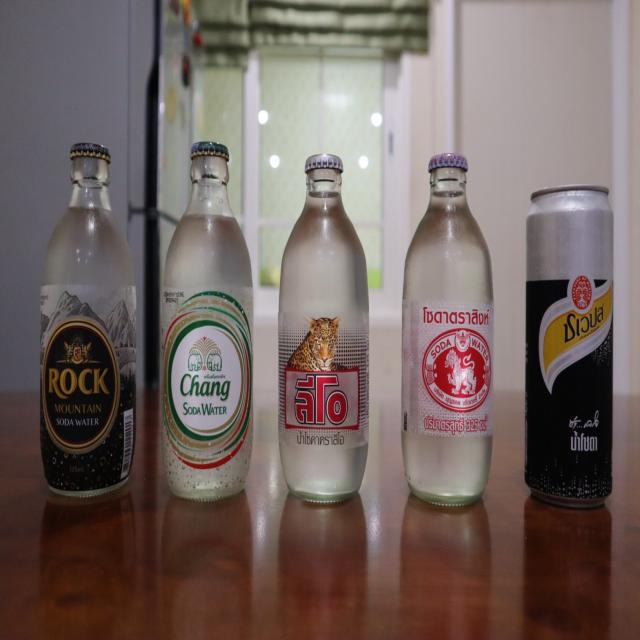glass-bottle: (30, 127, 147, 509), (153, 131, 264, 516), (391, 147, 504, 522), (276, 146, 378, 521)
